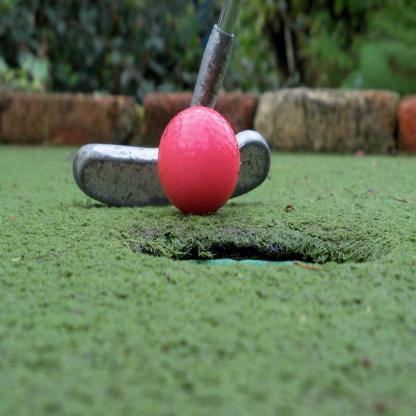Ball: (157, 108, 241, 216)
